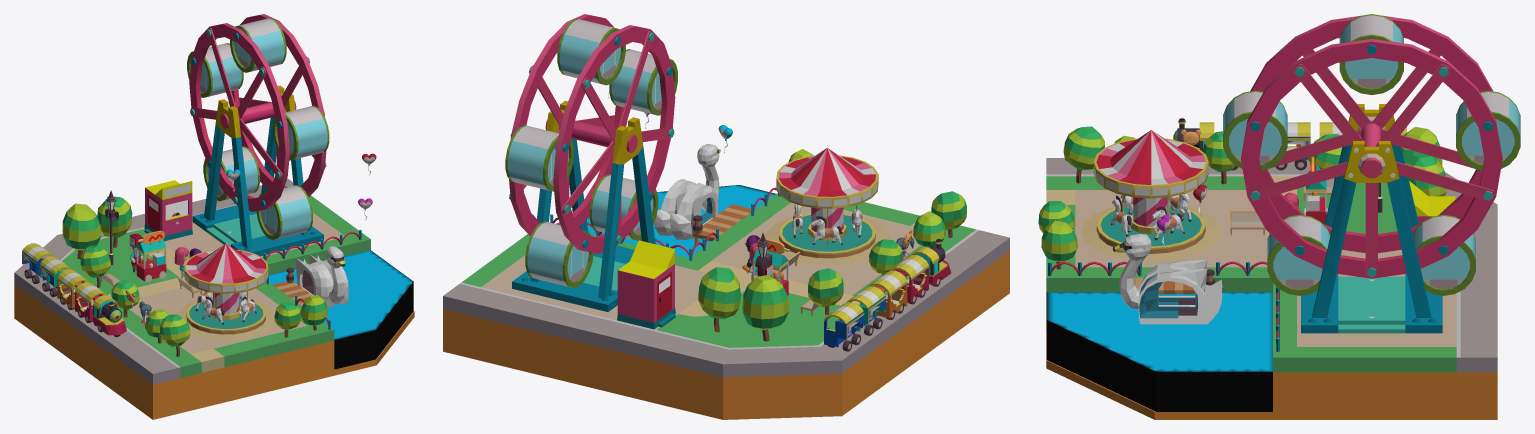
Rendered from 0014_amusmentPark.fbx.
The picture shows the model from 3 angles, left to right: view 1: azimuth 30°, elevation 25°; view 2: azimuth 150°, elevation 25°; view 3: azimuth 270°, elevation 25°; orthographic projection. The views are drawn at different scales.
Visible parts, largest first — view 1: Ground, [water], FerrisWheel_DriveRim (×2), FerrisWheel_PassengerSeat_Glass (×5), FerrisWheel_SupportArm_Fix (×2), Tree02 (×5), Carousel_Roof, Tree01 (×3), Carousel_Ground, FerrisWheel_Ground (×2), FerrisWheel_Spoke (×3), SwanBoat_Seat (+11 smaller); view 2: Ground, FerrisWheel_DriveRim (×2), FerrisWheel_PassengerSeat_Glass (×5), FerrisWheel_SupportArm_Fix (×2), Tree02 (×4), Carousel_Roof, Carousel_Ground, Tree01 (×2), SwanBoat_Seat (×2), TicketBooth_SideWall, FerrisWheel_Spoke (×3), [water] (+13 smaller); view 3: Ground, [water], FerrisWheel_DriveRim (×2), FerrisWheel_Spoke (×9), FerrisWheel_SupportArm_Fix (×2), FerrisWheel_PassengerSeat_Glass (×5), Carousel_Roof, FerrisWheel_PassengerSeat_Rim (×5), Tree02 (×5), Carousel_Ground, SwanBoat_Seat (×2), FerrisWheel_Ground_Entrance (+11 smaller).
Boxes of the visible parts, bbox=[...] form: Ground: bbox=[14, 179, 414, 419]; [water]: bbox=[269, 250, 413, 369]; FerrisWheel_DriveRim (×2): bbox=[189, 14, 326, 211]; FerrisWheel_PassengerSeat_Glass (×5): bbox=[200, 30, 327, 234]; FerrisWheel_SupportArm_Fix (×2): bbox=[204, 85, 308, 248]; Tree02 (×5): bbox=[80, 196, 301, 346]; Carousel_Roof: bbox=[184, 243, 268, 293]; Tree01 (×3): bbox=[62, 203, 327, 337]; Carousel_Ground: bbox=[176, 299, 275, 340]; FerrisWheel_Ground (×2): bbox=[192, 205, 323, 255]; FerrisWheel_Spoke (×3): bbox=[208, 28, 282, 179]; SwanBoat_Seat: bbox=[295, 258, 334, 307]; Ground: bbox=[443, 193, 1009, 419]; FerrisWheel_DriveRim (×2): bbox=[509, 14, 675, 253]; FerrisWheel_PassengerSeat_Glass (×5): bbox=[507, 34, 661, 281]; FerrisWheel_SupportArm_Fix (×2): bbox=[530, 100, 655, 298]; Tree02 (×4): bbox=[698, 191, 966, 319]; Carousel_Roof: bbox=[776, 147, 878, 208]; Carousel_Ground: bbox=[765, 213, 889, 265]; Tree01 (×2): bbox=[742, 211, 945, 330]; SwanBoat_Seat (×2): bbox=[654, 179, 718, 239]; TicketBooth_SideWall: bbox=[617, 261, 671, 322]; FerrisWheel_Spoke (×3): bbox=[562, 31, 652, 215]; [water]: bbox=[587, 185, 775, 257]; Ground: bbox=[1046, 158, 1497, 419]; [water]: bbox=[1046, 292, 1272, 411]; FerrisWheel_DriveRim (×2): bbox=[1241, 15, 1502, 278]; FerrisWheel_Spoke (×9): bbox=[1249, 49, 1494, 277]; FerrisWheel_SupportArm_Fix (×2): bbox=[1312, 104, 1431, 317]; FerrisWheel_PassengerSeat_Glass (×5): bbox=[1223, 23, 1520, 279]; Carousel_Roof: bbox=[1093, 130, 1208, 198]; FerrisWheel_PassengerSeat_Rim (×5): bbox=[1223, 34, 1520, 295]; Tree02 (×5): bbox=[1038, 126, 1446, 233]; Carousel_Ground: bbox=[1081, 203, 1221, 261]; SwanBoat_Seat (×2): bbox=[1138, 259, 1222, 324]; FerrisWheel_Ground_Entrance: bbox=[1338, 276, 1405, 333].
Bounding box in the file's own units: 29.09 × 23.4 × 29.67.
